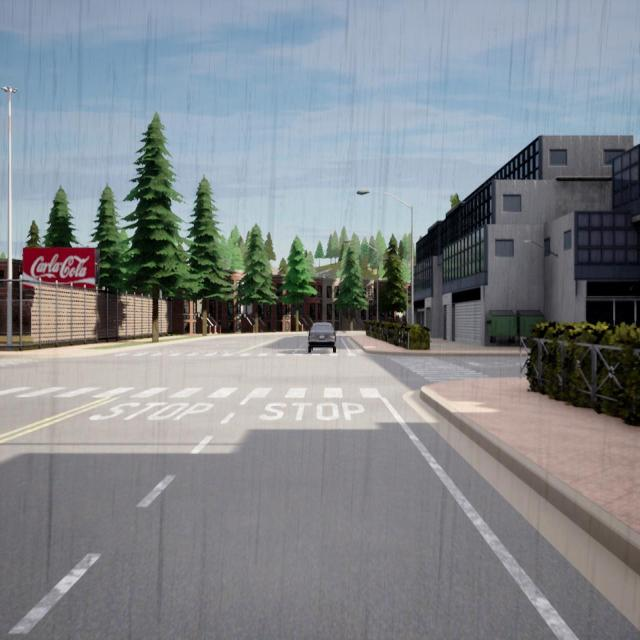Vehicle: (308, 321, 336, 353)
